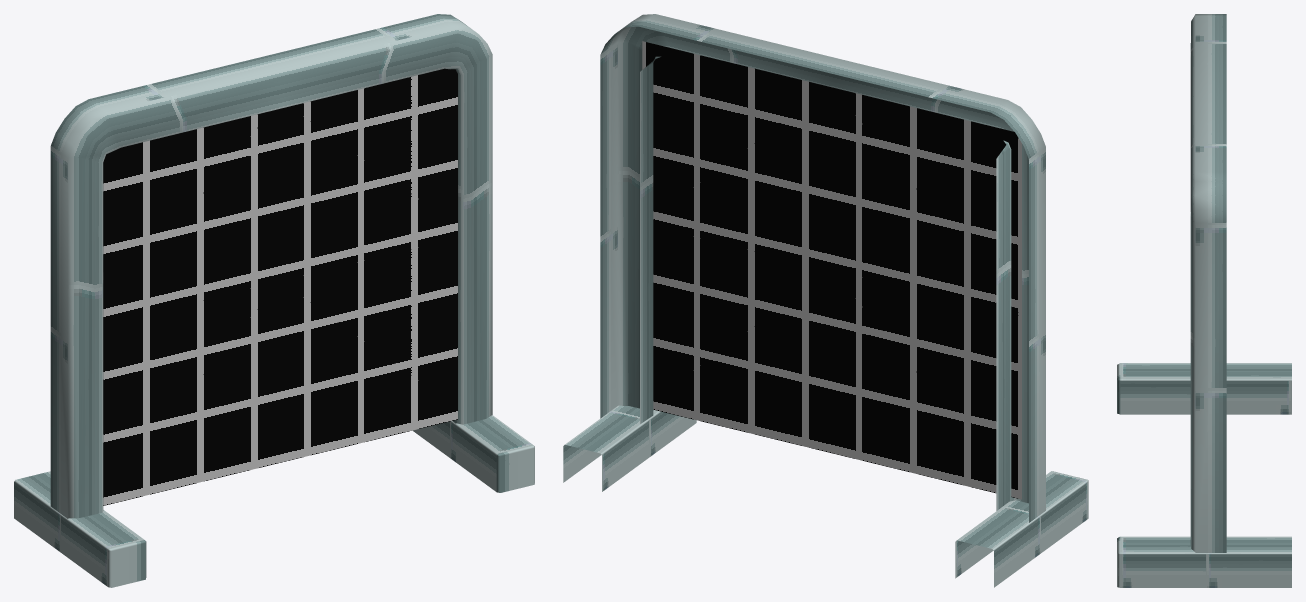
File: fg_wall_ftrL.dae
The picture shows the model from 3 angles, left to right: view 1: azimuth 30°, elevation 25°; view 2: azimuth 150°, elevation 25°; view 3: azimuth 270°, elevation 25°; orthographic projection. The views are drawn at different scales.
Parts seen in each view (by area): view 1: fg_wall_ftrL; view 2: fg_wall_ftrL; view 3: fg_wall_ftrL.
Boxes of the visible parts, x1,y1,x2,y2 form: fg_wall_ftrL: (14,14,534,587); fg_wall_ftrL: (563,14,1088,587); fg_wall_ftrL: (1117,14,1291,587).
Size of the model in its own units: 60.6 by 59.13 by 23.52.
2 materials, 2 textured.
